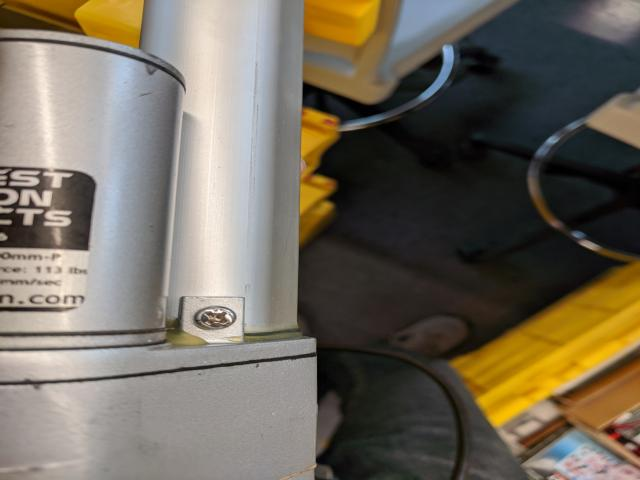CRS: (194, 307, 237, 329)
